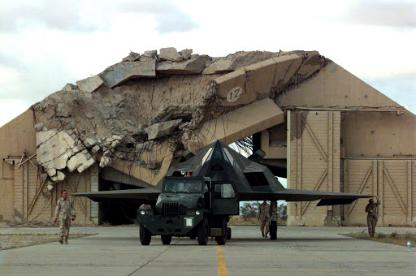E7: (69, 137, 375, 237)
